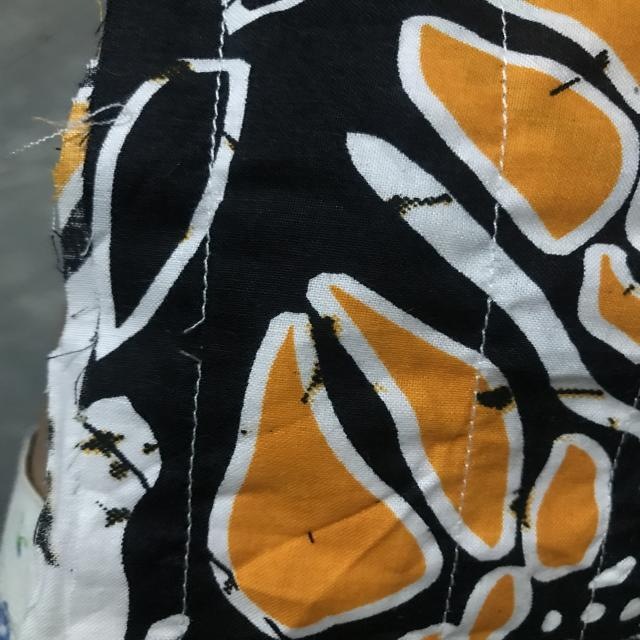broken: (168, 305, 221, 374)
good: (180, 398, 207, 561)
